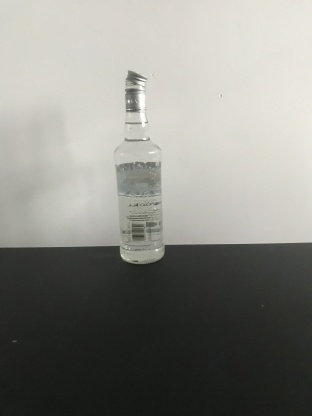nakretka: (123, 67, 149, 112)
